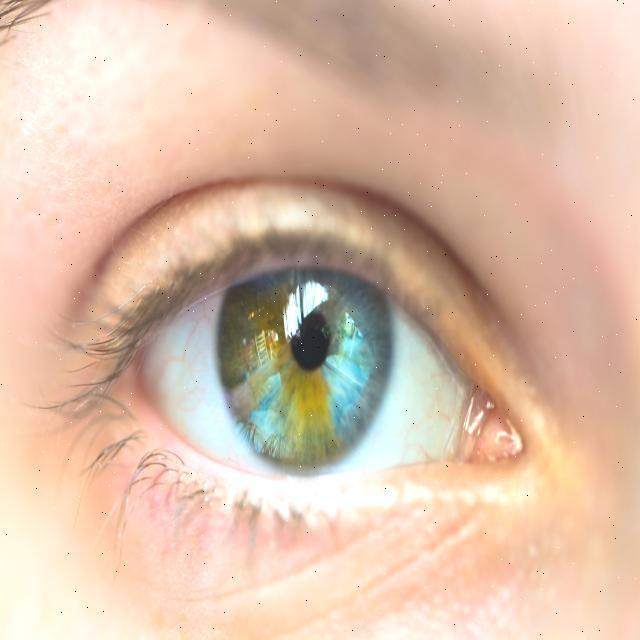Normal: (1, 1, 638, 638)
